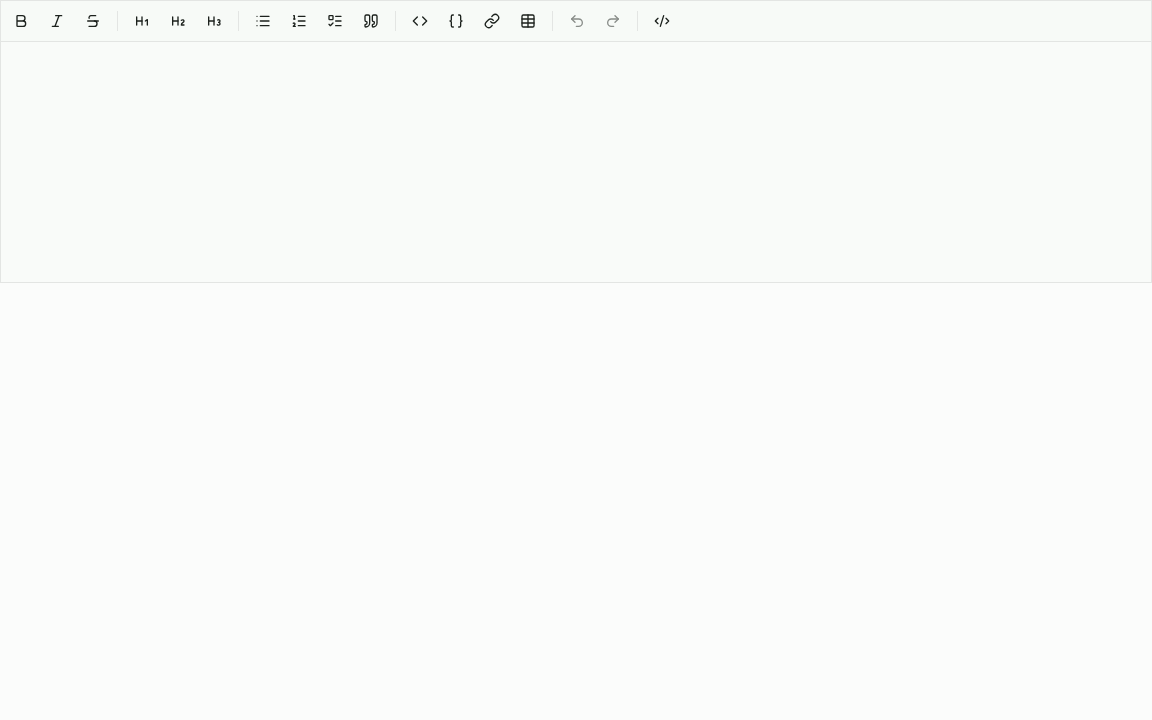
Scenario: MarkdownEditor › 点击链接按钮打开 Dialog 并校验非法输入
This screenshot has width=1152, height=720.
Click the button named "链接": [492, 21] box left=476, top=5, right=508, bottom=37
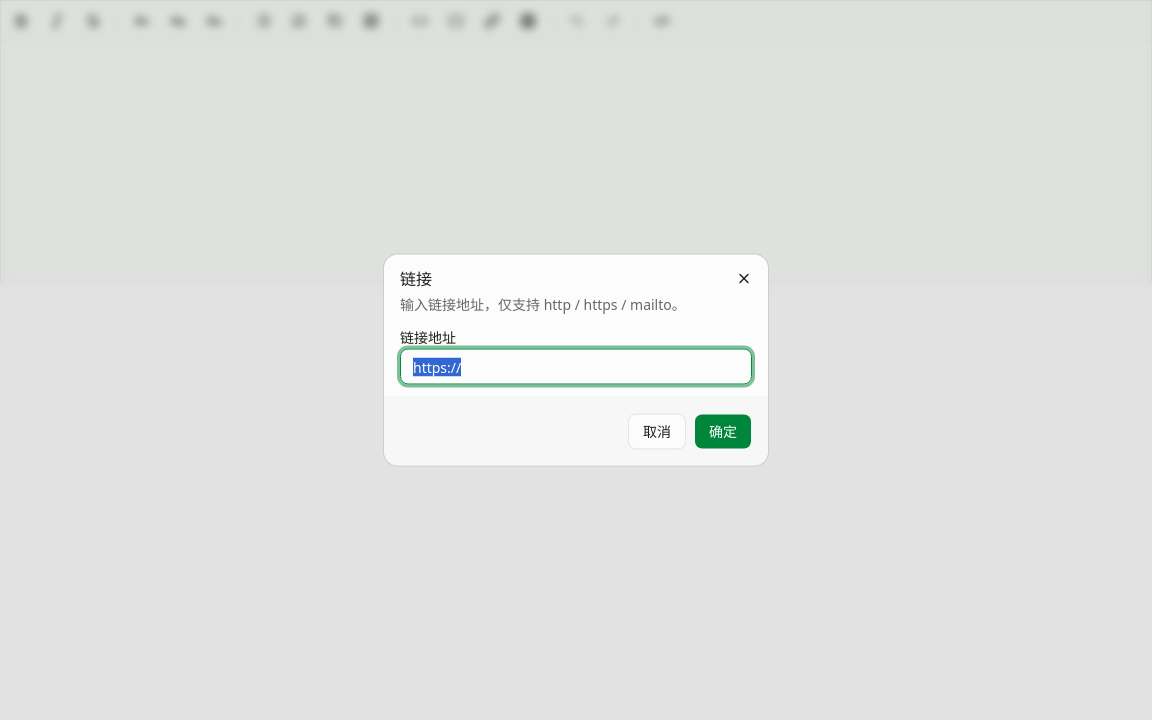
Result: the text "链接地址" is shown at left=400, top=328, right=456, bottom=346
输入非法协议，提交后显示错误
Replace the text in the field labelled "链接地址" with "ftp://bad": [576, 366] box left=400, top=348, right=752, bottom=384
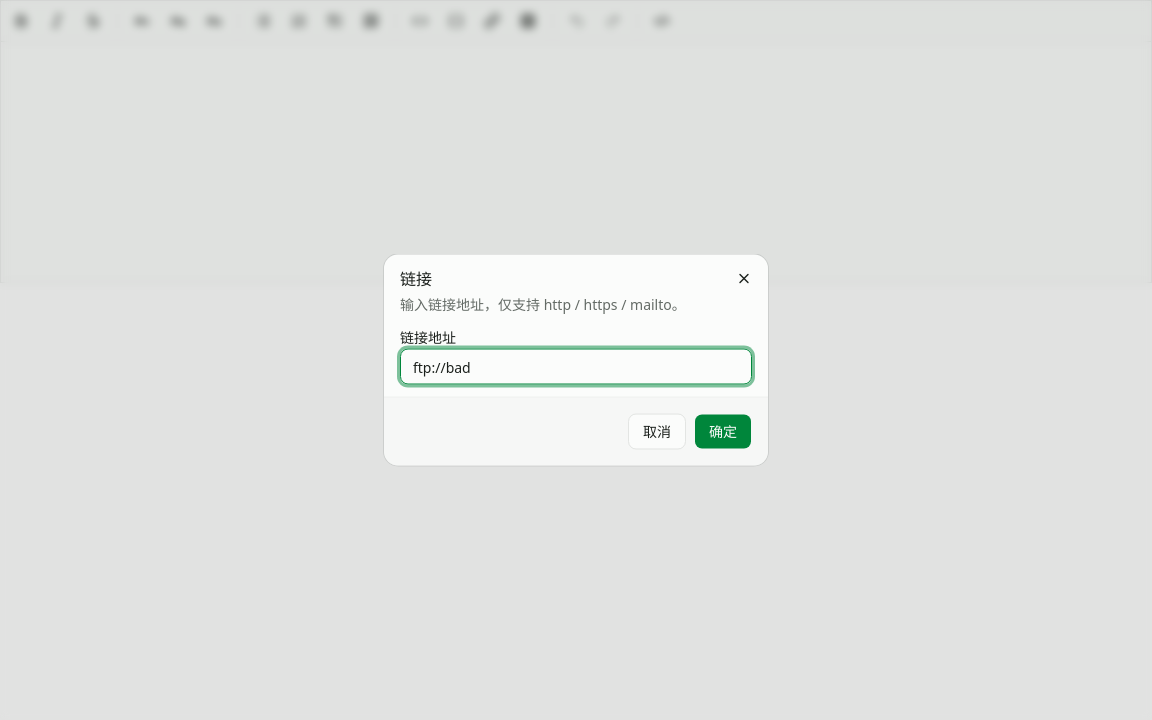
Click the button "确定": [723, 432] box left=694, top=414, right=752, bottom=450
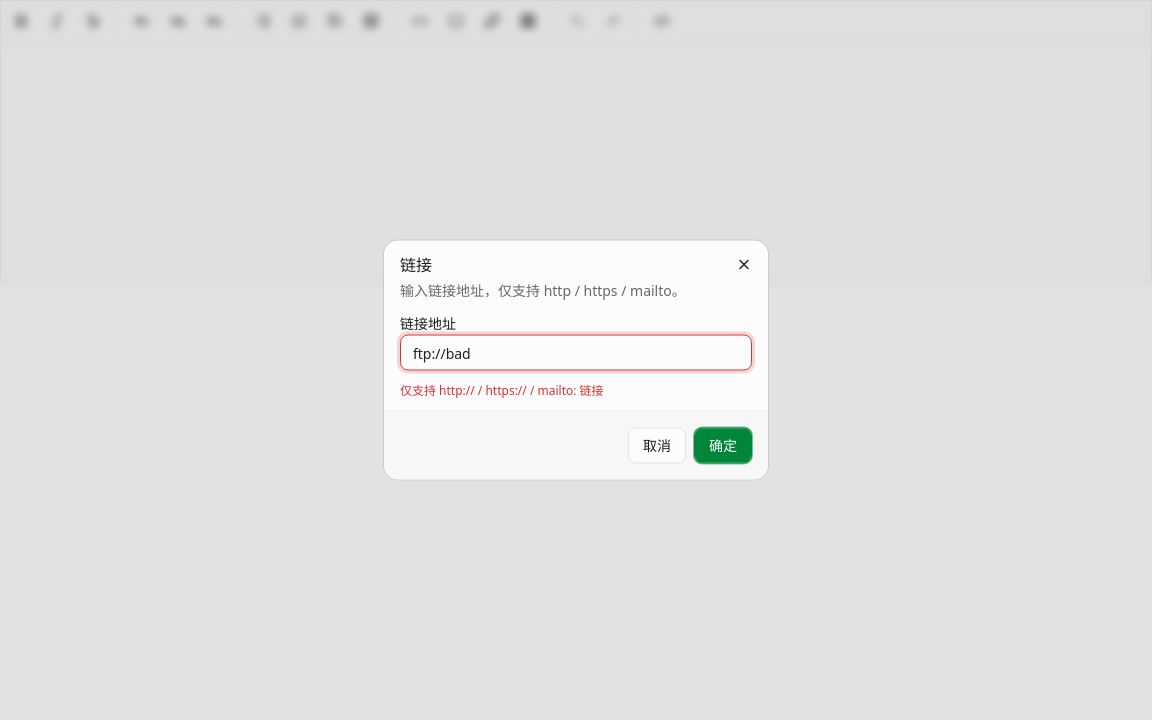
Result: the text "仅支持 http:// / https:// / mailto: 链接" is shown at left=400, top=382, right=604, bottom=398
